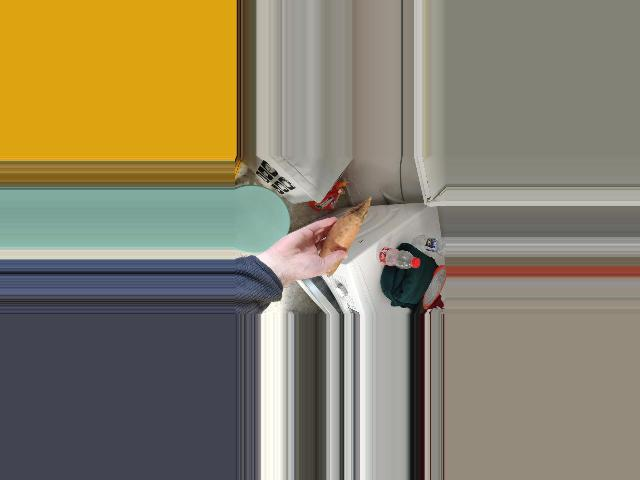sweet_potato: (321, 216, 359, 264)
